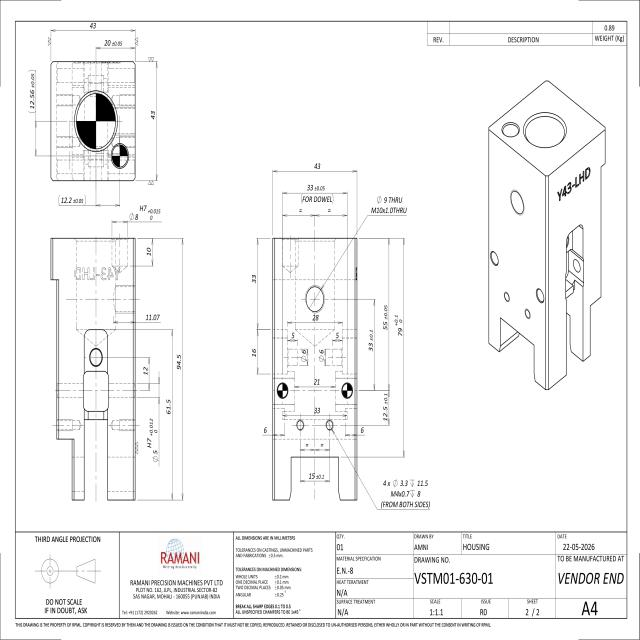dimension: (392, 237, 407, 459), (176, 236, 187, 502), (165, 325, 176, 502), (381, 237, 392, 393), (380, 478, 431, 510), (282, 182, 348, 205), (146, 371, 162, 465), (149, 60, 159, 181), (250, 236, 262, 333), (50, 21, 136, 34), (56, 193, 121, 210), (109, 205, 162, 225), (271, 163, 357, 175), (367, 297, 377, 392), (282, 404, 348, 418), (28, 67, 38, 158), (369, 194, 408, 217), (286, 313, 343, 326), (113, 312, 161, 326), (293, 377, 338, 391), (94, 36, 136, 50), (250, 328, 261, 376), (299, 471, 331, 486), (140, 356, 152, 392), (382, 388, 392, 427), (261, 425, 285, 439), (146, 237, 156, 268), (344, 425, 366, 439), (317, 348, 328, 367), (300, 348, 310, 367), (286, 330, 298, 344), (332, 330, 343, 344)
